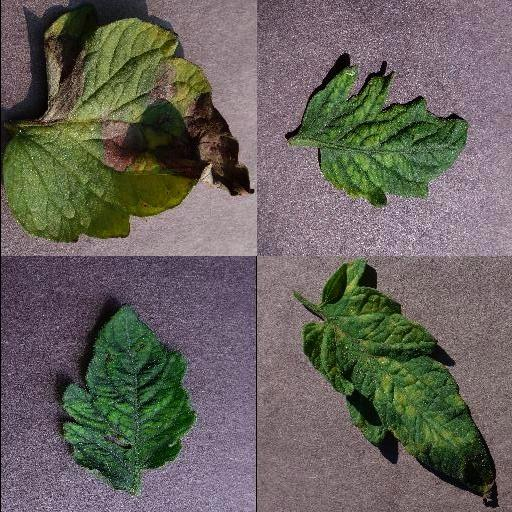Late Blight: (0, 4, 256, 244)
Leaf Mold: (302, 260, 496, 505)
Mosaic Virus: (60, 300, 196, 494), (298, 67, 470, 207)
